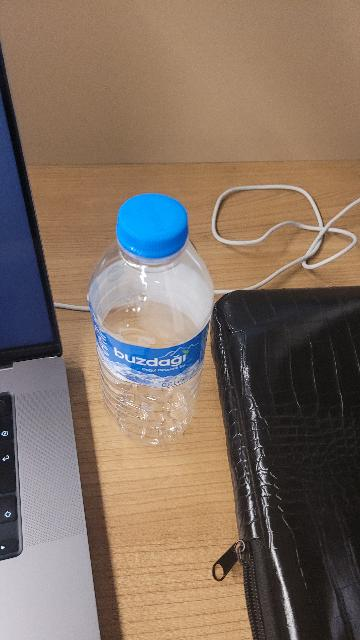Plastik: (89, 160, 207, 461), (113, 190, 187, 264)
